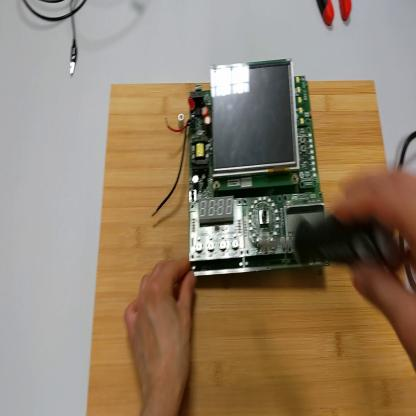hand: (333, 168, 416, 365), (123, 256, 198, 402)
low voltage board: (155, 59, 333, 276)
pliers: (318, 2, 354, 28)
screwdriver-: (257, 208, 406, 273)
working area: (90, 80, 416, 415)
